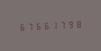eight: (73, 18, 80, 29)
nine: (65, 19, 72, 29)
one: (49, 20, 56, 30)
seven: (57, 19, 64, 30), (25, 21, 32, 31)
six: (17, 21, 24, 32), (33, 20, 40, 31), (41, 20, 48, 31)
